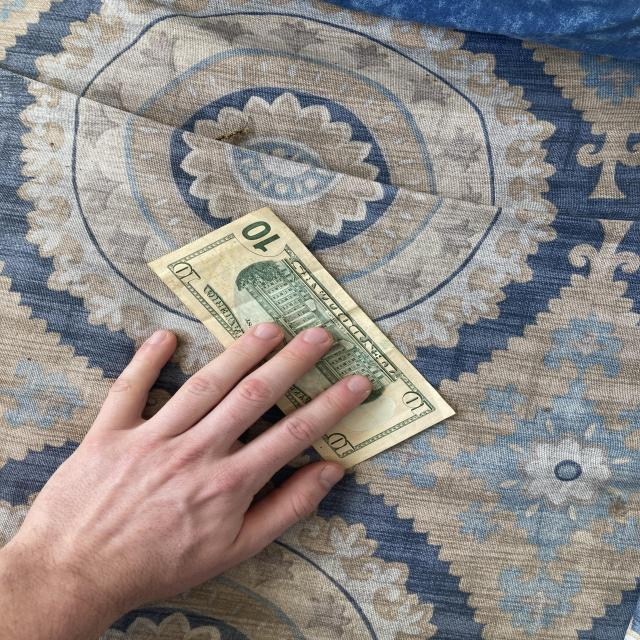ten: (148, 206, 455, 475)
